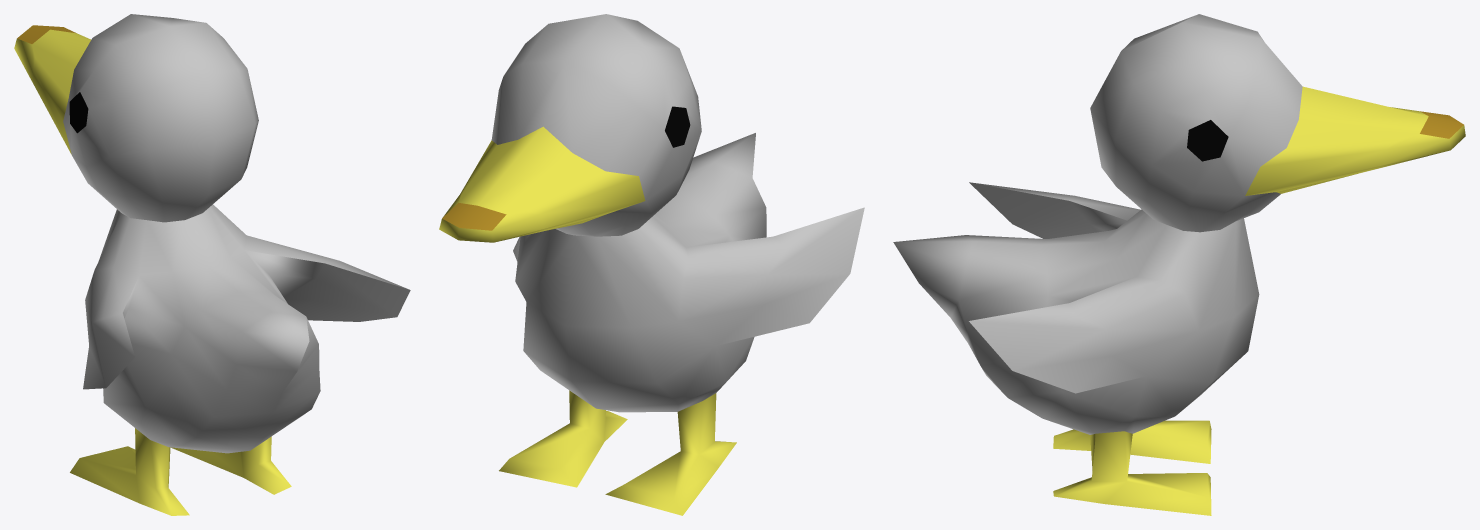
Rendered from npc_duck.glb.
3 views of the same model, side by side, from view 1: azimuth 30°, elevation 25°; view 2: azimuth 150°, elevation 25°; view 3: azimuth 270°, elevation 25° (orthographic). The views are drawn at different scales.
Parts seen in each view (by area): view 1: Duck; view 2: Duck; view 3: Duck.
Part boxes in pixels (x1,y1,x2,y2): Duck: [14, 14, 410, 515]; Duck: [439, 14, 864, 515]; Duck: [893, 14, 1465, 515].
Bounding box in the file's own units: 2.55 × 3.65 × 4.21.
